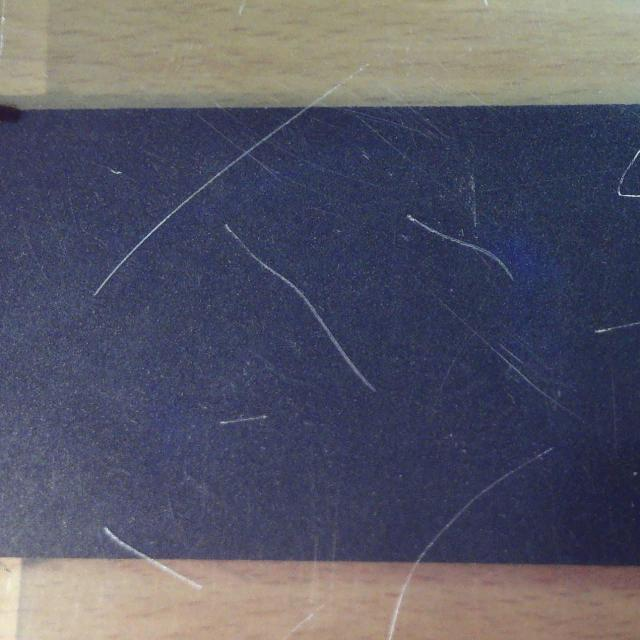defect: (92, 103, 316, 297), (225, 220, 380, 396), (432, 297, 593, 433), (413, 448, 554, 560), (405, 210, 516, 282), (103, 526, 155, 558), (616, 148, 640, 200), (596, 317, 640, 336), (220, 412, 269, 426), (106, 167, 126, 176)
